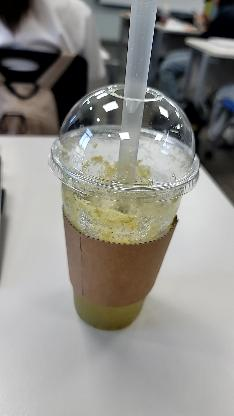Plastic Cup: (53, 77, 200, 349), (48, 81, 200, 199), (118, 5, 160, 206)
